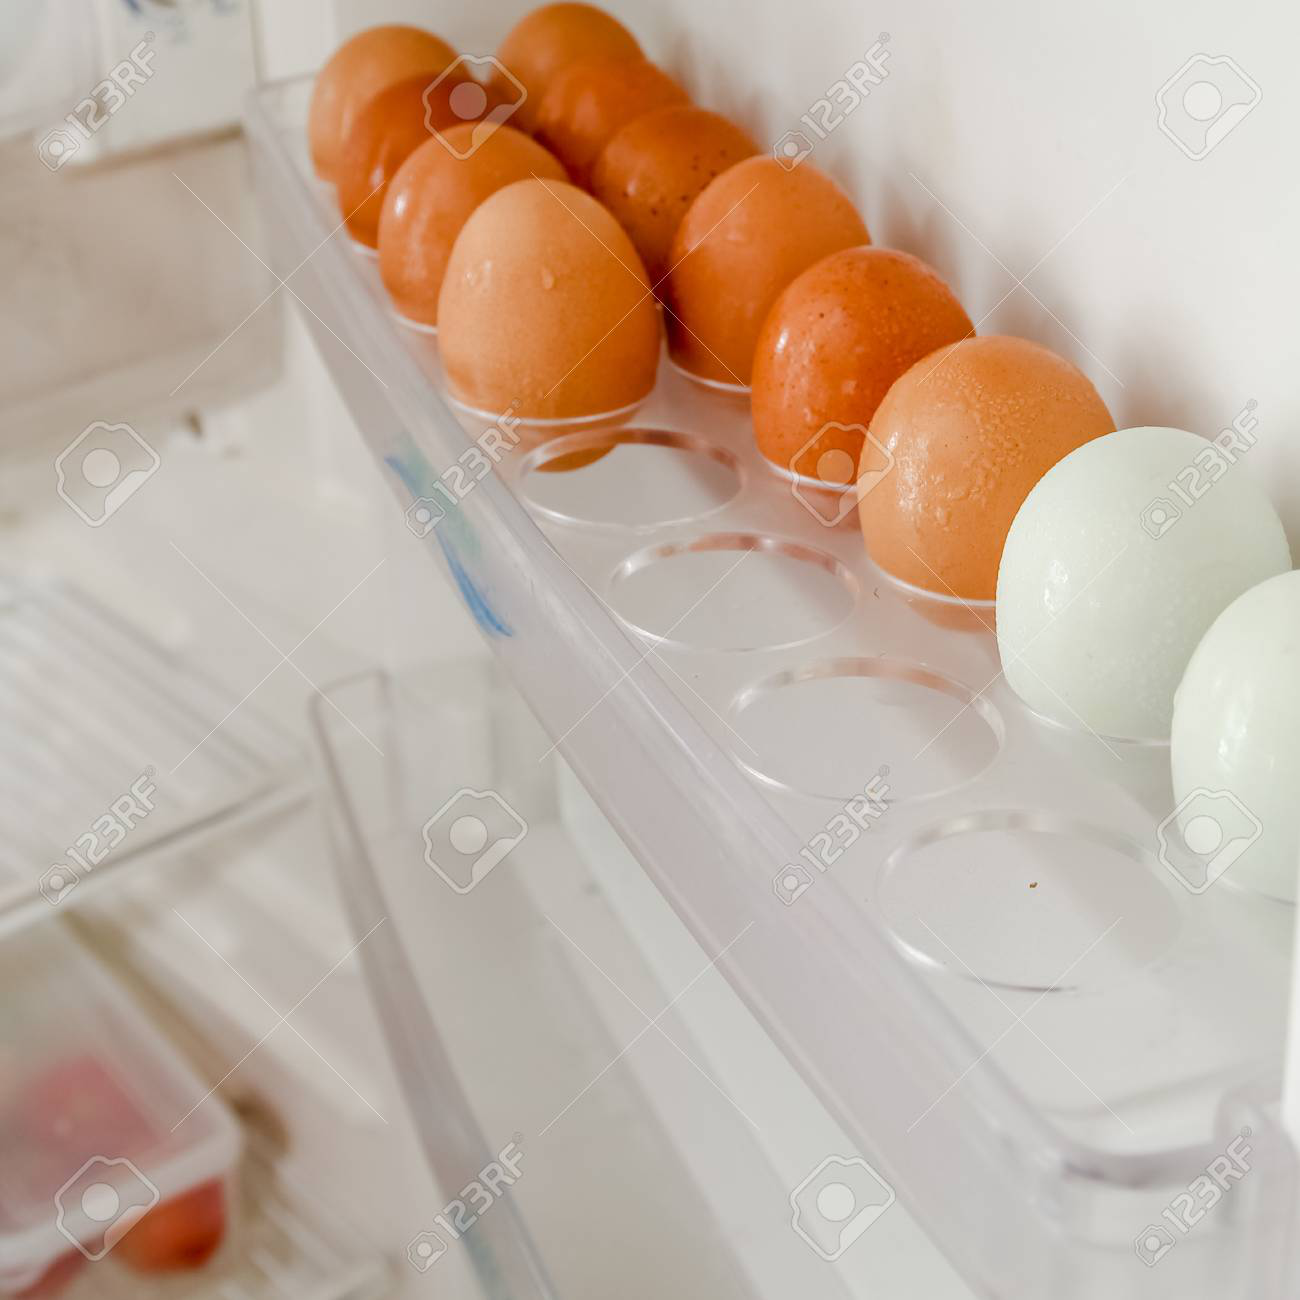egg: (313, 2, 1300, 901)
